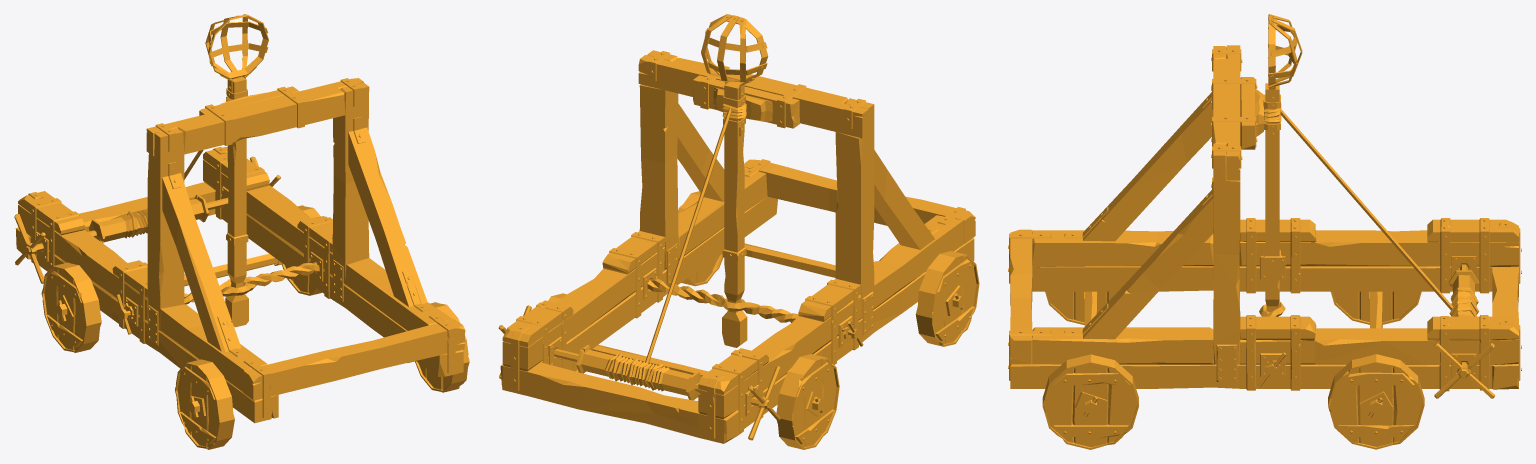
Rendered from SM_Catapult.fbx.
3 renders of one model, left to right at view 1: azimuth 30°, elevation 25°; view 2: azimuth 150°, elevation 25°; view 3: azimuth 270°, elevation 25°, orthographic. The views are drawn at different scales.
Visible parts, largest first — view 1: catapult-frame, catapult-arm, catapult-wheels-ba, catapult-wheels-fr, catapult-winch; view 2: catapult-frame, catapult-arm, catapult-wheels-fr, catapult-wheels-ba, catapult-winch, catapult-rope; view 3: catapult-frame, catapult-wheels-ba, catapult-wheels-fr, catapult-arm, catapult-winch, catapult-rope.
Part boxes in pixels (x1=…): catapult-frame: x1=15, y1=78, x2=465, y2=423; catapult-arm: x1=184, y1=14, x2=319, y2=327; catapult-wheels-ba: x1=41, y1=205, x2=322, y2=352; catapult-wheels-fr: x1=175, y1=302, x2=469, y2=449; catapult-winch: x1=14, y1=156, x2=280, y2=283; catapult-frame: x1=500, y1=50, x2=975, y2=443; catapult-arm: x1=647, y1=14, x2=798, y2=347; catapult-wheels-fr: x1=678, y1=191, x2=979, y2=346; catapult-wheels-ba: x1=548, y1=293, x2=839, y2=449; catapult-winch: x1=498, y1=305, x2=780, y2=440; catapult-rope: x1=645, y1=108, x2=731, y2=363; catapult-frame: x1=1008, y1=45, x2=1521, y2=391; catapult-wheels-ba: x1=1328, y1=291, x2=1424, y2=449; catapult-wheels-fr: x1=1042, y1=291, x2=1138, y2=449; catapult-arm: x1=1259, y1=14, x2=1302, y2=316; catapult-winch: x1=1434, y1=264, x2=1495, y2=398; catapult-rope: x1=1280, y1=109, x2=1453, y2=310.
Size of the model in its own units: 2.58 by 3.23 by 4.11.
